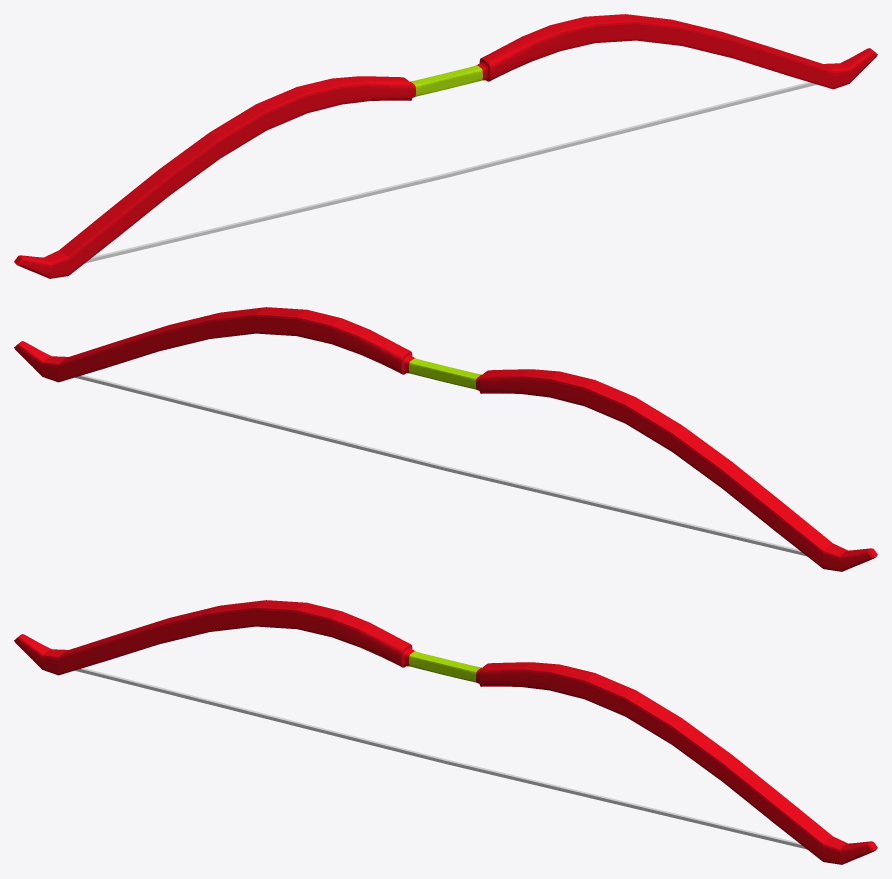
Rendered from Bow.fbx.
3 renders of one model, top to bottom at view 1: azimuth 30°, elevation 25°; view 2: azimuth 150°, elevation 25°; view 3: azimuth 330°, elevation 25°, orthographic.
Visible parts, largest first — view 1: Bow; view 2: Bow; view 3: Bow.
Part boxes in pixels (<box>): Bow: <box>14,14,877,278</box>; Bow: <box>14,307,877,571</box>; Bow: <box>14,600,877,864</box>.
Bounding box in the file's own units: 658 × 90.91 × 14.35.
